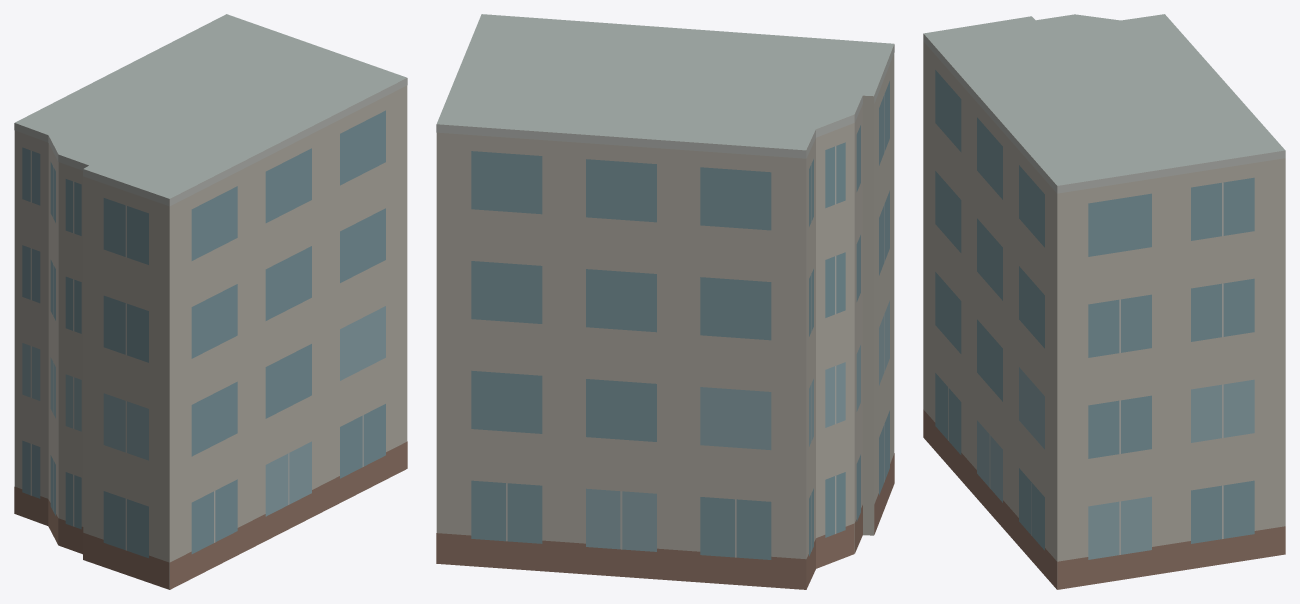
The model's file is survey-upis-32723754.glb.
3 renders of one model, left to right at view 1: azimuth 30°, elevation 25°; view 2: azimuth 150°, elevation 25°; view 3: azimuth 270°, elevation 25°, orthographic. The views are drawn at different scales.
Parts seen in each view (by area): view 1: survey-upis-32723754.tmp; view 2: survey-upis-32723754.tmp; view 3: survey-upis-32723754.tmp.
Part boxes in pixels (x1,y1,x2,y2): survey-upis-32723754.tmp: (14, 14, 407, 589); survey-upis-32723754.tmp: (436, 14, 894, 589); survey-upis-32723754.tmp: (923, 14, 1285, 589).
Bounding box in the file's own units: 11.69 × 12.8 × 10.41.
